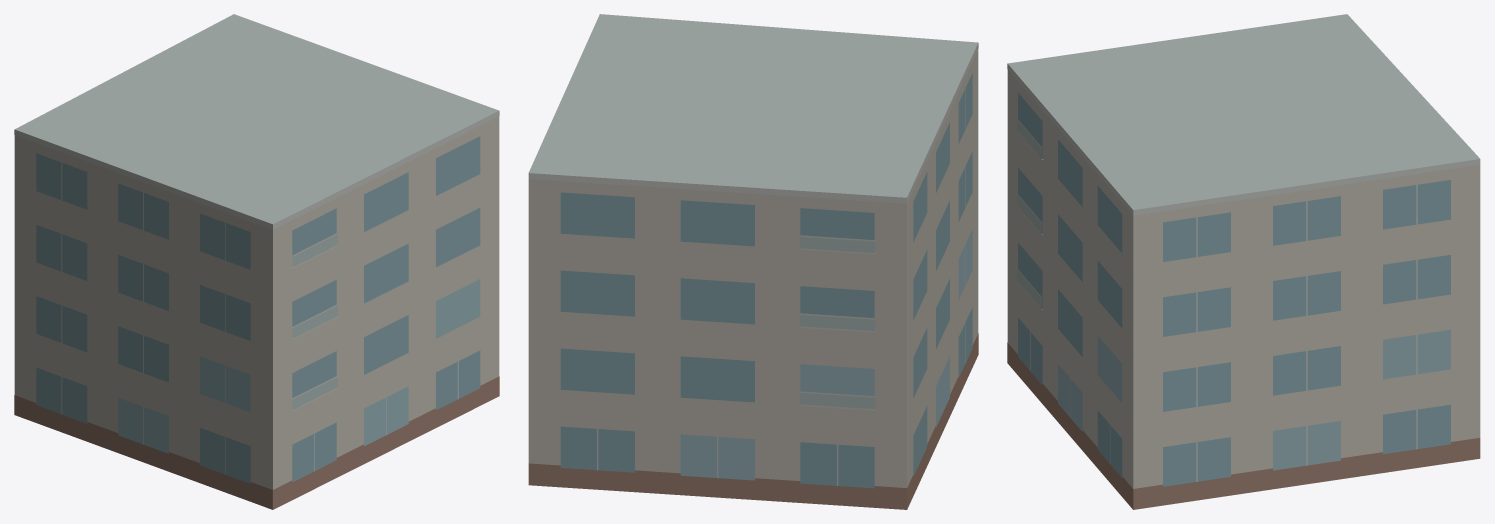
Rendered from survey-upis-32849915.glb.
The picture shows the model from 3 angles, left to right: view 1: azimuth 30°, elevation 25°; view 2: azimuth 150°, elevation 25°; view 3: azimuth 270°, elevation 25°; orthographic projection. The views are drawn at different scales.
Parts seen in each view (by area): view 1: survey-upis-32849915.tmp; view 2: survey-upis-32849915.tmp; view 3: survey-upis-32849915.tmp.
Part boxes in pixels (bbox=[...]): survey-upis-32849915.tmp: bbox=[14, 14, 499, 509]; survey-upis-32849915.tmp: bbox=[528, 14, 978, 509]; survey-upis-32849915.tmp: bbox=[1007, 14, 1480, 509].
Bounding box in the file's own units: 17.91 × 12.75 × 18.24.
